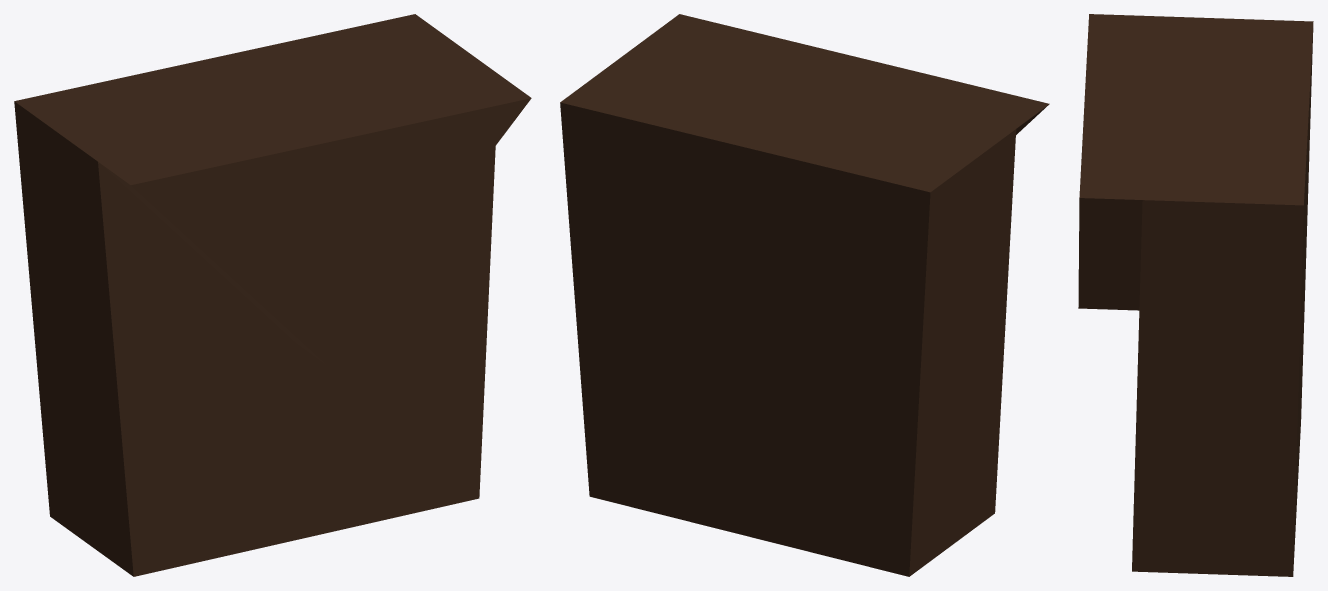
File: Pouch2.fbx
3 renders of one model, left to right at view 1: azimuth 30°, elevation 25°; view 2: azimuth 150°, elevation 25°; view 3: azimuth 270°, elevation 25°, orthographic. The views are drawn at different scales.
Parts seen in each view (by area): view 1: Pouch2; view 2: Pouch2; view 3: Pouch2.
Boxes of the visible parts, x1,y1,x2,y2 form: Pouch2: (14, 14, 531, 576); Pouch2: (560, 14, 1049, 576); Pouch2: (1078, 14, 1313, 576).
Bounding box in the file's own units: 20.11 × 20.39 × 11.04.
1 material, 1 textured.
